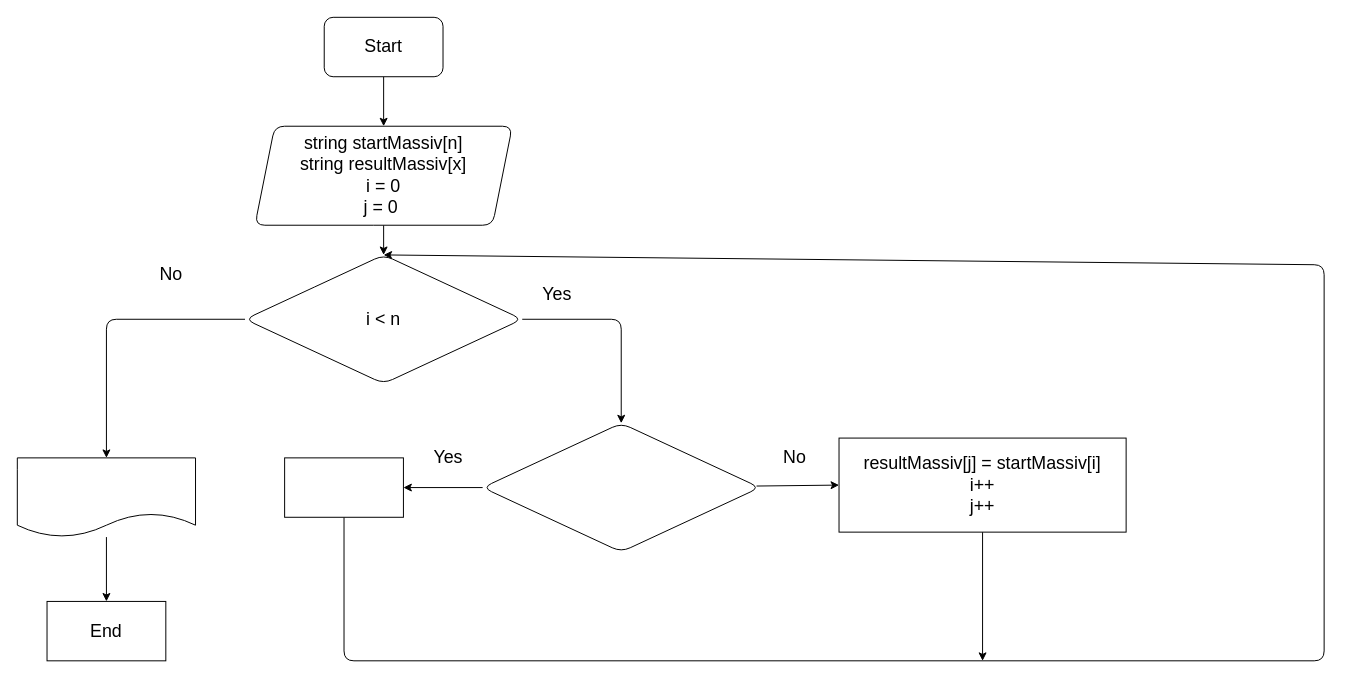
This 1349x686 diagram has some shape labels left out. Here are the shapes that lost their labels. From the top down, the centre of each, then its label:
At [106,497]: "print(resultMassiv)".
At [343,487]: "i++".
At [621,487]: "if startMassiv[i].Length > 3".
